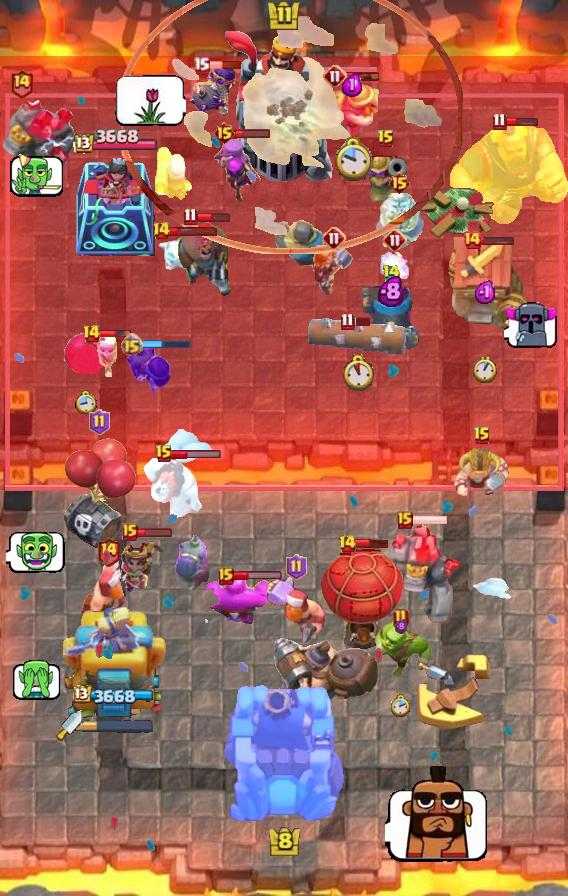bar: (140, 338, 192, 350), (232, 570, 283, 581), (171, 449, 222, 460), (168, 226, 218, 237), (411, 514, 448, 526), (196, 211, 231, 223), (136, 527, 173, 538), (234, 128, 271, 139), (354, 538, 390, 549), (480, 235, 515, 246), (504, 116, 539, 127), (345, 71, 380, 82), (207, 60, 242, 70), (98, 329, 132, 339), (352, 316, 372, 327)
bar-level: (96, 536, 121, 567), (9, 68, 34, 99), (383, 228, 407, 252), (322, 226, 346, 250), (323, 64, 347, 88), (388, 171, 411, 195), (213, 121, 236, 145), (286, 554, 307, 580), (89, 409, 110, 435), (120, 333, 143, 356), (462, 230, 482, 250), (338, 534, 357, 554), (82, 324, 101, 344), (152, 221, 171, 241), (382, 264, 401, 283), (155, 444, 173, 464), (473, 426, 491, 446), (377, 129, 395, 149), (193, 56, 210, 75), (393, 608, 409, 628), (218, 567, 234, 585), (122, 523, 138, 541), (397, 511, 413, 529), (340, 312, 355, 331), (183, 207, 198, 226), (492, 112, 507, 131)
bomb: (63, 329, 109, 374)
bomber-evolution: (188, 63, 238, 117), (126, 341, 172, 399), (174, 526, 212, 594)
clock: (333, 136, 372, 183), (340, 354, 376, 392), (473, 356, 497, 383), (75, 390, 97, 414), (391, 694, 411, 718)
dagger-duchess-tower: (60, 607, 168, 731)
dagger-duchess-tower-bar: (82, 719, 154, 733)
elite-barbarian: (454, 446, 510, 500)
elixir: (378, 275, 405, 307), (474, 280, 497, 305), (342, 73, 362, 97), (395, 619, 407, 634)
elixir-golem-mid: (204, 574, 272, 626)
emote: (385, 763, 491, 864), (114, 74, 186, 126), (8, 150, 64, 199), (6, 530, 66, 575), (504, 300, 559, 349), (10, 660, 62, 701)
firecracker: (153, 144, 195, 202)
goblin-brawler: (370, 621, 432, 677)
hunter: (176, 217, 232, 299)
ice-spirit: (155, 234, 197, 276)
king-tower: (223, 31, 345, 181), (221, 682, 347, 826)
knight: (272, 217, 336, 273)
lava-pup: (378, 250, 412, 282)
little-prince: (115, 536, 170, 598)
lumberjack: (264, 577, 328, 647), (79, 557, 137, 629)
miner: (321, 78, 383, 144)
mortar: (361, 286, 421, 350)
mother-witch: (212, 137, 264, 207)
musketeer: (365, 150, 407, 218)
queen-tower: (73, 158, 155, 256)
skeleton-evolution: (92, 335, 120, 377)
the-log: (307, 318, 409, 354)
tower-bar: (71, 129, 157, 156), (73, 685, 156, 706)
valkyrie: (311, 245, 357, 299)
